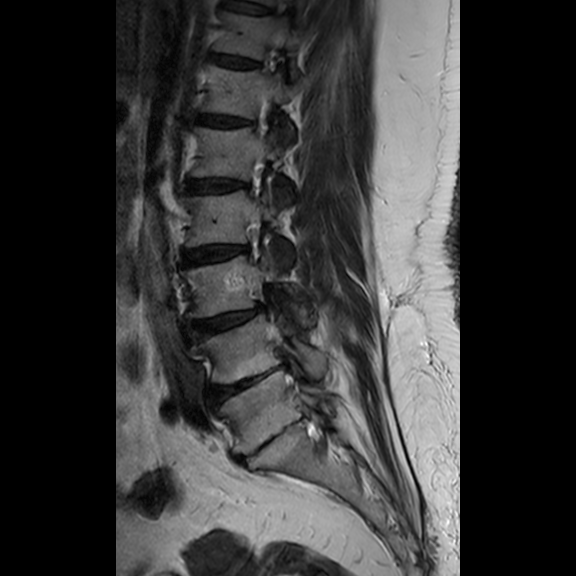RFS0: (232, 212, 274, 277)
